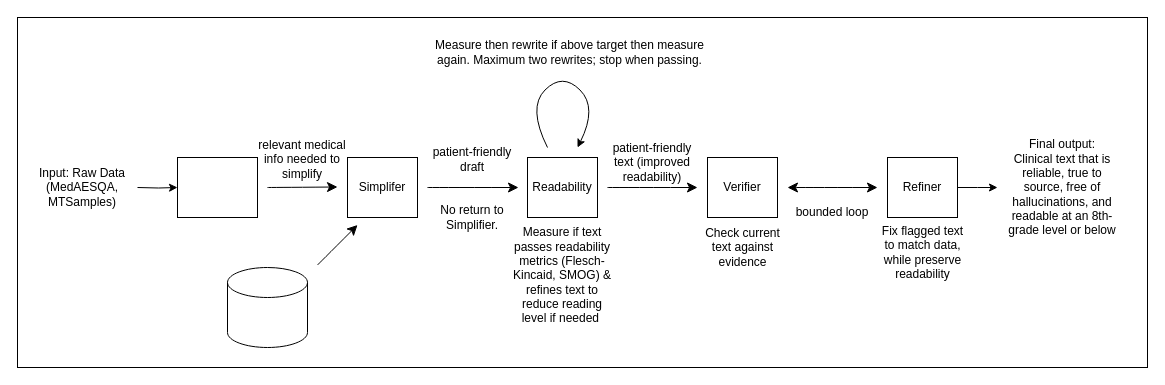
Image size: 1165x385. Some labels were removed from this diagram. Here are the shapes that lost their labels. From the top down, the centre of each, then its label:
At point 217,187: "Extractor".
At point 267,307: "MedlinePlus reference passages".
